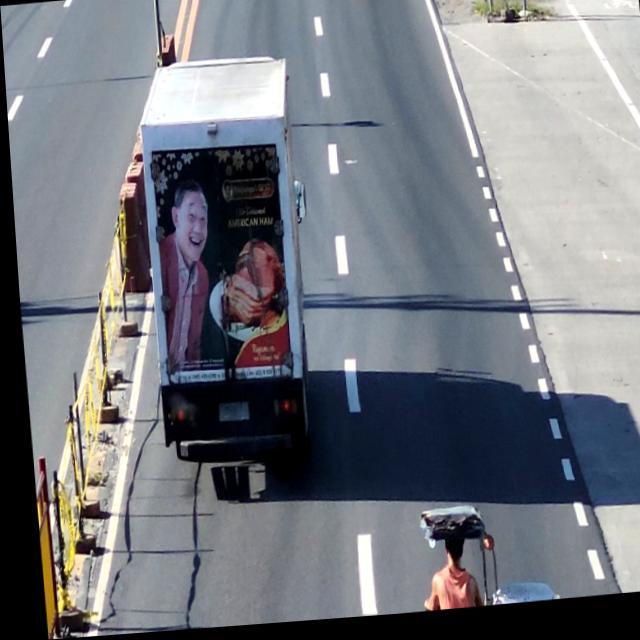License-Plate: (208, 398, 248, 432)
Tricycle: (404, 506, 553, 617)
Truck: (133, 53, 317, 508)
